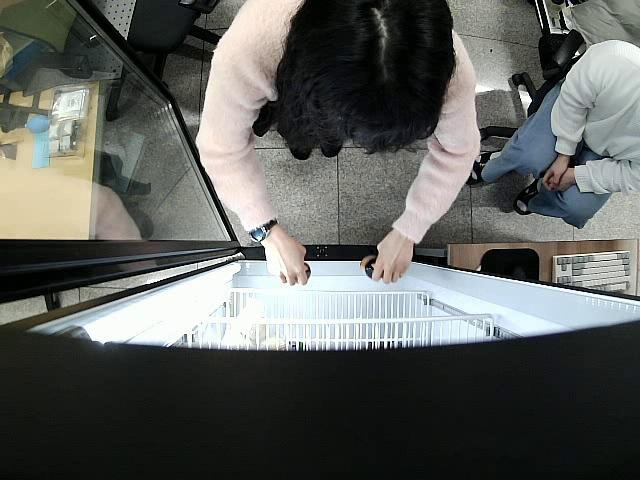17_vita500: (360, 257, 386, 282)
